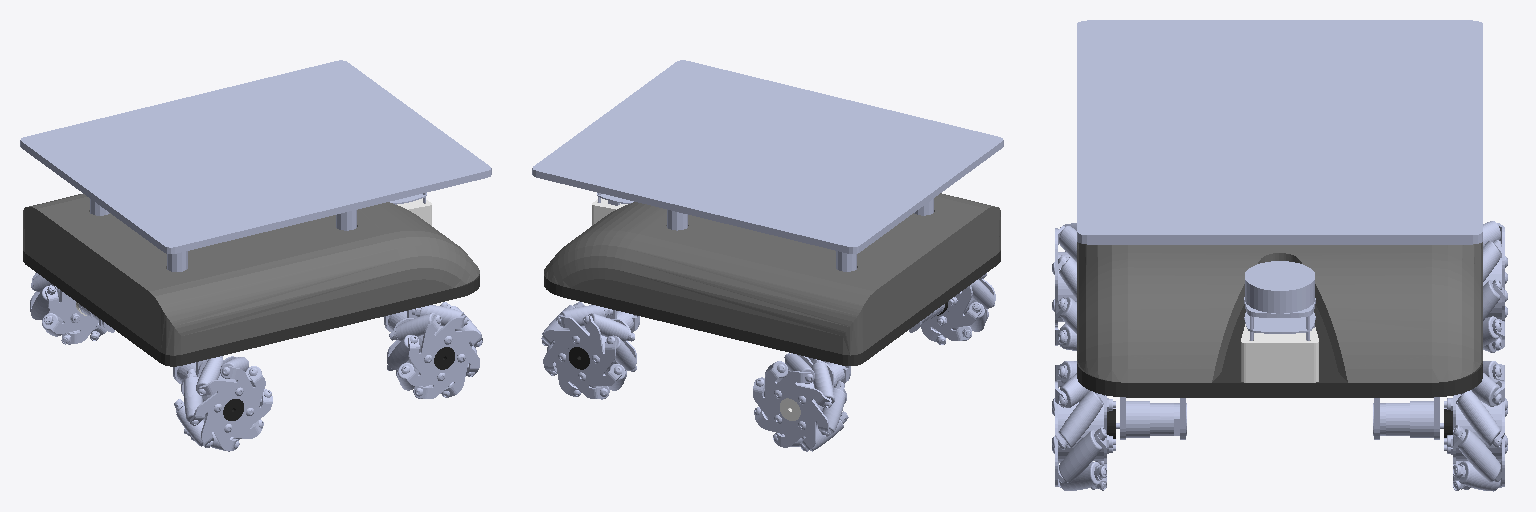
--- Render facts (derived) ---
Views: 3 orthographic renders of the robot side by side, from view 1: azimuth 30°, elevation 25°; view 2: azimuth 150°, elevation 25°; view 3: azimuth 270°, elevation 25°.
Model rUBotcoop_mecanum with 23 links and 22 joints (4 continuous, 18 fixed), rooted at base_link, posed all joints at 0.
Visible links, largest first — view 1: PlataformaSup_Link, Coberta_Link, R1_Link, R2_Link, base_link, L2_Link; view 2: PlataformaSup_Link, Coberta_Link, L2_Link, L1_Link, base_link, R2_Link; view 3: PlataformaSup_Link, Coberta_Link, base_link, L1_Link, R1_Link, Lidar_Link, SuportLidar_Link, L2_Link, R2_Link, MR1_Link, ML1_Link.
Link boxes in pixels (bbox=[...]): PlataformaSup_Link: bbox=[20, 60, 491, 271]; Coberta_Link: bbox=[23, 194, 479, 355]; R1_Link: bbox=[387, 302, 482, 398]; R2_Link: bbox=[174, 356, 272, 451]; base_link: bbox=[23, 251, 479, 366]; L2_Link: bbox=[30, 273, 106, 344]; PlataformaSup_Link: bbox=[532, 60, 1003, 271]; Coberta_Link: bbox=[544, 193, 1000, 355]; L2_Link: bbox=[753, 353, 848, 451]; L1_Link: bbox=[541, 301, 636, 399]; base_link: bbox=[544, 250, 1000, 365]; R2_Link: bbox=[921, 273, 995, 344]; PlataformaSup_Link: bbox=[1077, 20, 1482, 244]; Coberta_Link: bbox=[1077, 242, 1482, 382]; base_link: bbox=[1077, 304, 1482, 397]; L1_Link: bbox=[1444, 361, 1507, 491]; R1_Link: bbox=[1052, 361, 1115, 490]; Lidar_Link: bbox=[1244, 261, 1315, 340]; SuportLidar_Link: bbox=[1241, 324, 1318, 382]; L2_Link: bbox=[1483, 221, 1507, 352]; R2_Link: bbox=[1052, 223, 1076, 350]; MR1_Link: bbox=[1116, 401, 1186, 437]; ML1_Link: bbox=[1373, 401, 1443, 437].
Bounding box of the posed robot: 0.5 × 0.4478 × 0.3135 m (x, y, z).
Meshes: 23 distinct files referenced, 23 mesh visuals loaded (23 binary STL).

robot.urdf — rUBotcoop_mecanum:
<?xml version="1.0" encoding="utf-8"?>
<!-- This URDF was automatically created by SolidWorks to URDF Exporter! Originally created by Stephen Brawner ([email redacted]) 
     Commit Version: 1.6.0-1-g15f4949  Build Version: 1.6.7594.29634
     For more information, please see http://wiki.ros.org/sw_urdf_exporter -->
<robot
  name="rUBotcoop_mecanum">
  <link
    name="base_link">
    <inertial>
      <origin
        xyz="0.027358779894703 -0.0197603692535836 -0.100882644576948"
        rpy="0 0 0" />
      <mass
        value="3.18539354368186" />
      <inertia
        ixx="0.0106842818448098"
        ixy="-5.63785129692462E-18"
        ixz="-7.33657587264312E-18"
        iyy="0.0166285557560687"
        iyz="-1.02898300437925E-07"
        izz="0.0271752644394761" />
    </inertial>
    <visual>
      <origin
        xyz="0 0 0"
        rpy="0 0 0" />
      <geometry>
        <mesh
          filename="package://rUBotcoop_mecanum/meshes/base_link.STL" />
      </geometry>
      <material
        name="">
        <color
          rgba="0.298039215686275 0.298039215686275 0.298039215686275 1" />
      </material>
    </visual>
    <collision>
      <origin
        xyz="0 0 0"
        rpy="0 0 0" />
      <geometry>
        <mesh
          filename="package://rUBotcoop_mecanum/meshes/base_link.STL" />
      </geometry>
    </collision>
  </link>
  <link
    name="Coberta_Link">
    <inertial>
      <origin
        xyz="-0.00415860178485479 -0.0197626395125796 -0.0410152049578553"
        rpy="0 0 0" />
      <mass
        value="4.68887274677187" />
      <inertia
        ixx="0.0779139499510574"
        ixy="-3.02761947211858E-07"
        ixz="0.00111949131598739"
        iyy="0.103102478258834"
        iyz="2.20300061116548E-07"
        izz="0.176660832697072" />
    </inertial>
    <visual>
      <origin
        xyz="0 0 0"
        rpy="0 0 0" />
      <geometry>
        <mesh
          filename="package://rUBotcoop_mecanum/meshes/Coberta_Link.STL" />
      </geometry>
      <material
        name="">
        <color
          rgba="0.498039215686275 0.498039215686275 0.498039215686275 1" />
      </material>
    </visual>
    <collision>
      <origin
        xyz="0 0 0"
        rpy="0 0 0" />
      <geometry>
        <mesh
          filename="package://rUBotcoop_mecanum/meshes/Coberta_Link.STL" />
      </geometry>
    </collision>
  </link>
  <joint
    name="joint_Coberta"
    type="fixed">
    <origin
      xyz="0 0 0"
      rpy="0 0 0" />
    <parent
      link="base_link" />
    <child
      link="Coberta_Link" />
    <axis
      xyz="0 0 0" />
    <limit
      lower="-0.2"
      upper="0"
      effort="0"
      velocity="0" />
  </joint>
  <link
    name="SuportMR1_Link">
    <inertial>
      <origin
        xyz="0.190240986234762 -0.167323573865871 -0.136245077283678"
        rpy="0 0 0" />
      <mass
        value="2.54893478703683E-14" />
      <inertia
        ixx="2.02436254768541E-17"
        ixy="1.34985144449705E-34"
        ixz="7.6274306503081E-33"
        iyy="1.9230003872193E-17"
        iyz="-4.43488387471056E-18"
        izz="6.65997704462131E-18" />
    </inertial>
    <visual>
      <origin
        xyz="0 0 0"
        rpy="0 0 0" />
      <geometry>
        <mesh
          filename="package://rUBotcoop_mecanum/meshes/SuportMR1_Link.STL" />
      </geometry>
      <material
        name="">
        <color
          rgba="0.792156862745098 0.819607843137255 0.933333333333333 1" />
      </material>
    </visual>
    <collision>
      <origin
        xyz="0 0 0"
        rpy="0 0 0" />
      <geometry>
        <mesh
          filename="package://rUBotcoop_mecanum/meshes/SuportMR1_Link.STL" />
      </geometry>
    </collision>
  </link>
  <joint
    name="joint_SuportMR1"
    type="fixed">
    <origin
      xyz="0 0 0"
      rpy="0 0 0" />
    <parent
      link="base_link" />
    <child
      link="SuportMR1_Link" />
    <axis
      xyz="0 0 0" />
  </joint>
  <link
    name="SuportML1_Link">
    <inertial>
      <origin
        xyz="0.190240986234762 0.127802835358702 -0.136245077283677"
        rpy="0 0 0" />
      <mass
        value="2.54893478703682E-14" />
      <inertia
        ixx="2.02436254768541E-17"
        ixy="-1.58935337858327E-33"
        ixz="3.93745200371624E-33"
        iyy="1.9230003872193E-17"
        iyz="4.43488387471057E-18"
        izz="6.65997704462131E-18" />
    </inertial>
    <visual>
      <origin
        xyz="0 0 0"
        rpy="0 0 0" />
      <geometry>
        <mesh
          filename="package://rUBotcoop_mecanum/meshes/SuportML1_Link.STL" />
      </geometry>
      <material
        name="">
        <color
          rgba="0.792156862745098 0.819607843137255 0.933333333333333 1" />
      </material>
    </visual>
    <collision>
      <origin
        xyz="0 0 0"
        rpy="0 0 0" />
      <geometry>
        <mesh
          filename="package://rUBotcoop_mecanum/meshes/SuportML1_Link.STL" />
      </geometry>
    </collision>
  </link>
  <joint
    name="joint_SuportML1"
    type="fixed">
    <origin
      xyz="0 0 0"
      rpy="0 0 0" />
    <parent
      link="base_link" />
    <child
      link="SuportML1_Link" />
    <axis
      xyz="0 0 0" />
  </joint>
  <link
    name="SuportMR2_Link">
    <inertial>
      <origin
        xyz="-0.133359013765239 -0.167323573865871 -0.136245077283678"
        rpy="0 0 0" />
      <mass
        value="2.54893478703683E-14" />
      <inertia
        ixx="2.02436254768542E-17"
        ixy="-5.29793030468644E-33"
        ixz="-1.68811615077954E-32"
        iyy="1.9230003872193E-17"
        iyz="-4.43488387471055E-18"
        izz="6.6599770446213E-18" />
    </inertial>
    <visual>
      <origin
        xyz="0 0 0"
        rpy="0 0 0" />
      <geometry>
        <mesh
          filename="package://rUBotcoop_mecanum/meshes/SuportMR2_Link.STL" />
      </geometry>
      <material
        name="">
        <color
          rgba="0.792156862745098 0.819607843137255 0.933333333333333 1" />
      </material>
    </visual>
    <collision>
      <origin
        xyz="0 0 0"
        rpy="0 0 0" />
      <geometry>
        <mesh
          filename="package://rUBotcoop_mecanum/meshes/SuportMR2_Link.STL" />
      </geometry>
    </collision>
  </link>
  <joint
    name="joint_SuportMR2"
    type="fixed">
    <origin
      xyz="0 0 0"
      rpy="0 0 0" />
    <parent
      link="base_link" />
    <child
      link="SuportMR2_Link" />
    <axis
      xyz="0 0 0" />
  </joint>
  <link
    name="SuportML2_Link">
    <inertial>
      <origin
        xyz="-0.133359013765239 0.127802835358702 -0.136245077283677"
        rpy="0 0 0" />
      <mass
        value="2.54893478703682E-14" />
      <inertia
        ixx="2.02436254768541E-17"
        ixy="-1.48266934258178E-32"
        ixz="3.06188261174757E-32"
        iyy="1.9230003872193E-17"
        iyz="4.43488387471057E-18"
        izz="6.65997704462132E-18" />
    </inertial>
    <visual>
      <origin
        xyz="0 0 0"
        rpy="0 0 0" />
      <geometry>
        <mesh
          filename="package://rUBotcoop_mecanum/meshes/SuportML2_Link.STL" />
      </geometry>
      <material
        name="">
        <color
          rgba="0.792156862745098 0.819607843137255 0.933333333333333 1" />
      </material>
    </visual>
    <collision>
      <origin
        xyz="0 0 0"
        rpy="0 0 0" />
      <geometry>
        <mesh
          filename="package://rUBotcoop_mecanum/meshes/SuportML2_Link.STL" />
      </geometry>
    </collision>
  </link>
  <joint
    name="joint_SuportML2"
    type="fixed">
    <origin
      xyz="0 0 0"
      rpy="0 0 0" />
    <parent
      link="base_link" />
    <child
      link="SuportML2_Link" />
    <axis
      xyz="0 0 0" />
  </joint>
  <link
    name="R1_Link">
    <inertial>
      <origin
        xyz="0.19024 -0.21509 -0.18093"
        rpy="0 0 0" />
      <mass
        value="0.38394" />
      <inertia
        ixx="0.0001602"
        ixy="-7.3492E-12"
        ixz="1.3026E-10"
        iyy="0.00023557"
        iyz="-4.8E-12"
        izz="0.0001602" />
    </inertial>
    <visual>
      <origin
        xyz="0 0 0"
        rpy="0 0 0" />
      <geometry>
        <mesh
          filename="package://rUBotcoop_mecanum/meshes/R1_Link.STL" />
      </geometry>
      <material
        name="">
        <color
          rgba="0.79216 0.81961 0.93333 1" />
      </material>
    </visual>
    <collision>
      <origin
        xyz="0 0 0"
        rpy="0 0 0" />
      <geometry>
        <mesh
          filename="package://rUBotcoop_mecanum/meshes/R1_Link.STL" />
      </geometry>
    </collision>
  </link>
  <joint
    name="joint_R1"
    type="continuous">
    <origin
      xyz="0 0 0"
      rpy="0 0 0" />
    <parent
      link="base_link" />
    <child
      link="R1_Link" />
    <axis
      xyz="0 1 0" />
  </joint>
  <link
    name="L1_Link">
    <inertial>
      <origin
        xyz="0.190240943143321 0.175566774257101 -0.180932674543495"
        rpy="0 0 0" />
      <mass
        value="0.383940518115187" />
      <inertia
        ixx="0.000160200198814806"
        ixy="-3.45253719252988E-11"
        ixz="-1.60009721033914E-10"
        iyy="0.000235568986288032"
        iyz="4.96443788890198E-11"
        izz="0.000160200317616536" />
    </inertial>
    <visual>
      <origin
        xyz="0 0 0"
        rpy="0 0 0" />
      <geometry>
        <mesh
          filename="package://rUBotcoop_mecanum/meshes/L1_Link.STL" />
      </geometry>
      <material
        name="">
        <color
          rgba="0.792156862745098 0.819607843137255 0.933333333333333 1" />
      </material>
    </visual>
    <collision>
      <origin
        xyz="0 0 0"
        rpy="0 0 0" />
      <geometry>
        <mesh
          filename="package://rUBotcoop_mecanum/meshes/L1_Link.STL" />
      </geometry>
    </collision>
  </link>
  <joint
    name="joint_L1"
    type="continuous">
    <origin
      xyz="0 0 0"
      rpy="0 0 0" />
    <parent
      link="base_link" />
    <child
      link="L1_Link" />
    <axis
      xyz="0 1 0" />
  </joint>
  <link
    name="R2_Link">
    <inertial>
      <origin
        xyz="-0.133358966564122 -0.215087513495667 -0.180932621623078"
        rpy="0 0 0" />
      <mass
        value="0.383940489023943" />
      <inertia
        ixx="0.000160200144686595"
        ixy="2.64443282999573E-11"
        ixz="-1.34249931824287E-10"
        iyy="0.000235568971072202"
        iyz="-5.43811018013371E-11"
        izz="0.000160200355480651" />
    </inertial>
    <visual>
      <origin
        xyz="0 0 0"
        rpy="0 0 0" />
      <geometry>
        <mesh
          filename="package://rUBotcoop_mecanum/meshes/R2_Link.STL" />
      </geometry>
      <material
        name="">
        <color
          rgba="0.792156862745098 0.819607843137255 0.933333333333333 1" />
      </material>
    </visual>
    <collision>
      <origin
        xyz="0 0 0"
        rpy="0 0 0" />
      <geometry>
        <mesh
          filename="package://rUBotcoop_mecanum/meshes/R2_Link.STL" />
      </geometry>
    </collision>
  </link>
  <joint
    name="joint_R2"
    type="continuous">
    <origin
      xyz="0 0 0"
      rpy="0 0 0" />
    <parent
      link="base_link" />
    <child
      link="R2_Link" />
    <axis
      xyz="0 1 0" />
  </joint>
  <link
    name="L2_Link">
    <inertial>
      <origin
        xyz="-0.133359013765297 0.175566946695439 -0.180932686457985"
        rpy="0 0 0" />
      <mass
        value="0.383942544876254" />
      <inertia
        ixx="0.000160200609592822"
        ixy="8.77755939197018E-12"
        ixz="7.38003881984372E-17"
        iyy="0.000235567297373846"
        iyz="1.32162987441133E-15"
        izz="0.000160200325120215" />
    </inertial>
    <visual>
      <origin
        xyz="0 0 0"
        rpy="0 0 0" />
      <geometry>
        <mesh
          filename="package://rUBotcoop_mecanum/meshes/L2_Link.STL" />
      </geometry>
      <material
        name="">
        <color
          rgba="0.792156862745098 0.819607843137255 0.933333333333333 1" />
      </material>
    </visual>
    <collision>
      <origin
        xyz="0 0 0"
        rpy="0 0 0" />
      <geometry>
        <mesh
          filename="package://rUBotcoop_mecanum/meshes/L2_Link.STL" />
      </geometry>
    </collision>
  </link>
  <joint
    name="joint_L2"
    type="continuous">
    <origin
      xyz="0 0 0"
      rpy="0 0 0" />
    <parent
      link="base_link" />
    <child
      link="L2_Link" />
    <axis
      xyz="0 1 0" />
  </joint>
  <link
    name="MR1_Link">
    <inertial>
      <origin
        xyz="0.190366281023609 -0.143706161605733 -0.174082729445397"
        rpy="0 0 0" />
      <mass
        value="0.0568898396886143" />
      <inertia
        ixx="2.16430504132729E-05"
        ixy="-1.5609549027946E-07"
        ixz="-7.2412664372835E-10"
        iyy="8.51339721047066E-06"
        iyz="-1.74927784904546E-07"
        izz="2.17113865023018E-05" />
    </inertial>
    <visual>
      <origin
        xyz="0 0 0"
        rpy="0 0 0" />
      <geometry>
        <mesh
          filename="package://rUBotcoop_mecanum/meshes/MR1_Link.STL" />
      </geometry>
      <material
        name="">
        <color
          rgba="0.792156862745098 0.819607843137255 0.933333333333333 1" />
      </material>
    </visual>
    <collision>
      <origin
        xyz="0 0 0"
        rpy="0 0 0" />
      <geometry>
        <mesh
          filename="package://rUBotcoop_mecanum/meshes/MR1_Link.STL" />
      </geometry>
    </collision>
  </link>
  <joint
    name="joint_MR1"
    type="fixed">
    <origin
      xyz="0 0 0"
      rpy="0 0 0" />
    <parent
      link="base_link" />
    <child
      link="MR1_Link" />
    <axis
      xyz="0 0 0" />
  </joint>
  <link
    name="ML1_Link">
    <inertial>
      <origin
        xyz="0.190115691445914 0.104185423098564 -0.174082729445396"
        rpy="0 0 0" />
      <mass
        value="0.0568898396886143" />
      <inertia
        ixx="2.16430504132729E-05"
        ixy="-1.56095490279455E-07"
        ixz="7.24126643729239E-10"
        iyy="8.51339721047066E-06"
        iyz="1.74927784904539E-07"
        izz="2.17113865023018E-05" />
    </inertial>
    <visual>
      <origin
        xyz="0 0 0"
        rpy="0 0 0" />
      <geometry>
        <mesh
          filename="package://rUBotcoop_mecanum/meshes/ML1_Link.STL" />
      </geometry>
      <material
        name="">
        <color
          rgba="0.792156862745098 0.819607843137255 0.933333333333333 1" />
      </material>
    </visual>
    <collision>
      <origin
        xyz="0 0 0"
        rpy="0 0 0" />
      <geometry>
        <mesh
          filename="package://rUBotcoop_mecanum/meshes/ML1_Link.STL" />
      </geometry>
    </collision>
  </link>
  <joint
    name="joint_ML1"
    type="fixed">
    <origin
      xyz="0 0 0"
      rpy="0 0 0" />
    <parent
      link="base_link" />
    <child
      link="ML1_Link" />
    <axis
      xyz="0 0 0" />
  </joint>
  <link
    name="MR2_Link">
    <inertial>
      <origin
        xyz="-0.133233718976391 -0.143706161605733 -0.174082729445397"
        rpy="0 0 0" />
      <mass
        value="0.0568898396886143" />
      <inertia
        ixx="2.16430504132729E-05"
        ixy="-1.56095490279478E-07"
        ixz="-7.24126643728311E-10"
        iyy="8.51339721047067E-06"
        iyz="-1.74927784904551E-07"
        izz="2.17113865023018E-05" />
    </inertial>
    <visual>
      <origin
        xyz="0 0 0"
        rpy="0 0 0" />
      <geometry>
        <mesh
          filename="package://rUBotcoop_mecanum/meshes/MR2_Link.STL" />
      </geometry>
      <material
        name="">
        <color
          rgba="0.792156862745098 0.819607843137255 0.933333333333333 1" />
      </material>
    </visual>
    <collision>
      <origin
        xyz="0 0 0"
        rpy="0 0 0" />
      <geometry>
        <mesh
          filename="package://rUBotcoop_mecanum/meshes/MR2_Link.STL" />
      </geometry>
    </collision>
  </link>
  <joint
    name="joint_MR2"
    type="fixed">
    <origin
      xyz="0 0 0"
      rpy="0 0 0" />
    <parent
      link="base_link" />
    <child
      link="MR2_Link" />
    <axis
      xyz="0 0 0" />
  </joint>
  <link
    name="ML2_Link">
    <inertial>
      <origin
        xyz="-0.133484308554086 0.104185423098564 -0.174082729445396"
        rpy="0 0 0" />
      <mass
        value="0.0568898396886143" />
      <inertia
        ixx="2.16430504132728E-05"
        ixy="-1.56095490279473E-07"
        ixz="7.24126643728921E-10"
        iyy="8.51339721047066E-06"
        iyz="1.74927784904534E-07"
        izz="2.17113865023018E-05" />
    </inertial>
    <visual>
      <origin
        xyz="0 0 0"
        rpy="0 0 0" />
      <geometry>
        <mesh
          filename="package://rUBotcoop_mecanum/meshes/ML2_Link.STL" />
      </geometry>
      <material
        name="">
        <color
          rgba="0.792156862745098 0.819607843137255 0.933333333333333 1" />
      </material>
    </visual>
    <collision>
      <origin
        xyz="0 0 0"
        rpy="0 0 0" />
      <geometry>
        <mesh
          filename="package://rUBotcoop_mecanum/meshes/ML2_Link.STL" />
      </geometry>
    </collision>
  </link>
  <joint
    name="joint_ML2"
    type="fixed">
    <origin
      xyz="0 0 0"
      rpy="0 0 0" />
    <parent
      link="base_link" />
    <child
      link="ML2_Link" />
    <axis
      xyz="0 0 0" />
  </joint>
  <link
    name="SuportCentre1_Link">
    <inertial>
      <origin
        xyz="0.190240986234762 -0.0197603692535851 -0.123144960869108"
        rpy="0 0 0" />
      <mass
        value="0.0669507766214093" />
      <inertia
        ixx="0.000378535151720878"
        ixy="-1.05872032699741E-11"
        ixz="-9.32038950909216E-20"
        iyy="3.15577343168385E-05"
        iyz="-3.99908044191436E-18"
        izz="0.000362568392195281" />
    </inertial>
    <visual>
      <origin
        xyz="0 0 0"
        rpy="0 0 0" />
      <geometry>
        <mesh
          filename="package://rUBotcoop_mecanum/meshes/SuportCentre1_Link.STL" />
      </geometry>
      <material
        name="">
        <color
          rgba="0.792156862745098 0.819607843137255 0.933333333333333 1" />
      </material>
    </visual>
    <collision>
      <origin
        xyz="0 0 0"
        rpy="0 0 0" />
      <geometry>
        <mesh
          filename="package://rUBotcoop_mecanum/meshes/SuportCentre1_Link.STL" />
      </geometry>
    </collision>
  </link>
  <joint
    name="joint_SuportCentre1"
    type="fixed">
    <origin
      xyz="0 0 0"
      rpy="0 0 0" />
    <parent
      link="base_link" />
    <child
      link="SuportCentre1_Link" />
    <axis
      xyz="0 0 0" />
  </joint>
  <link
    name="SuportCentre2_Link">
    <inertial>
      <origin
        xyz="-0.133359013765239 -0.0197603692535846 -0.123144960869108"
        rpy="0 0 0" />
      <mass
        value="0.0669507766214103" />
      <inertia
        ixx="0.000378535151720885"
        ixy="-1.05872033500054E-11"
        ixz="-7.19182837784651E-20"
        iyy="3.15577343168399E-05"
        iyz="-2.97637255379468E-18"
        izz="0.000362568392195286" />
    </inertial>
    <visual>
      <origin
        xyz="0 0 0"
        rpy="0 0 0" />
      <geometry>
        <mesh
          filename="package://rUBotcoop_mecanum/meshes/SuportCentre2_Link.STL" />
      </geometry>
      <material
        name="">
        <color
          rgba="0.792156862745098 0.819607843137255 0.933333333333333 1" />
      </material>
    </visual>
    <collision>
      <origin
        xyz="0 0 0"
        rpy="0 0 0" />
      <geometry>
        <mesh
          filename="package://rUBotcoop_mecanum/meshes/SuportCentre2_Link.STL" />
      </geometry>
    </collision>
  </link>
  <joint
    name="joint_SuportCentre2"
    type="fixed">
    <origin
      xyz="0 0 0"
      rpy="0 0 0" />
    <parent
      link="base_link" />
    <child
      link="SuportCentre2_Link" />
    <axis
      xyz="0 0 0" />
  </joint>
  <link
    name="SuportLidar_Link">
    <inertial>
      <origin
        xyz="0.227558314004439 -0.0197601971689057 -0.0652431702877647"
        rpy="0 0 0" />
      <mass
        value="0.0608283980591504" />
      <inertia
        ixx="4.90100368938017E-05"
        ixy="1.11693718998757E-09"
        ixz="3.84054517720639E-07"
        iyy="9.70408126614275E-05"
        iyz="5.90756790540856E-11"
        izz="0.000122668352099749" />
    </inertial>
    <visual>
      <origin
        xyz="0 0 0"
        rpy="0 0 0" />
      <geometry>
        <mesh
          filename="package://rUBotcoop_mecanum/meshes/SuportLidar_Link.STL" />
      </geometry>
      <material
        name="">
        <color
          rgba="1 1 1 1" />
      </material>
    </visual>
    <collision>
      <origin
        xyz="0 0 0"
        rpy="0 0 0" />
      <geometry>
        <mesh
          filename="package://rUBotcoop_mecanum/meshes/SuportLidar_Link.STL" />
      </geometry>
    </collision>
  </link>
  <joint
    name="joint_SuportLidar"
    type="fixed">
    <origin
      xyz="0 0 0"
      rpy="0 0 0" />
    <parent
      link="base_link" />
    <child
      link="SuportLidar_Link" />
    <axis
      xyz="0 0 0" />
  </joint>
  <link
    name="Lidar_Link">
    <inertial>
      <origin
        xyz="0.241002840357545 -0.019671965350921 -0.0116798073175813"
        rpy="0 0 0" />
      <mass
        value="0.134107312465981" />
      <inertia
        ixx="4.5528108756831E-05"
        ixy="-3.94767799937156E-10"
        ixz="6.7406179850395E-13"
        iyy="5.75373075830395E-05"
        iyz="-5.69541050115237E-11"
        izz="9.32616751986301E-05" />
    </inertial>
    <visual>
      <origin
        xyz="0 0 0"
        rpy="0 0 0" />
      <geometry>
        <mesh
          filename="package://rUBotcoop_mecanum/meshes/Lidar_Link.STL" />
      </geometry>
      <material
        name="">
        <color
          rgba="0.792156862745098 0.819607843137255 0.933333333333333 1" />
      </material>
    </visual>
    <collision>
      <origin
        xyz="0 0 0"
        rpy="0 0 0" />
      <geometry>
        <mesh
          filename="package://rUBotcoop_mecanum/meshes/Lidar_Link.STL" />
      </geometry>
    </collision>
  </link>
  <joint
    name="joint_Lidar"
    type="fixed">
    <origin
      xyz="0 0 0"
      rpy="0 0 0" />
    <parent
      link="base_link" />
    <child
      link="Lidar_Link" />
    <axis
      xyz="0 0 0" />
  </joint>
  <link
    name="PlataformaSup_Link">
    <inertial>
      <origin
        xyz="0.0206420247116084 -0.0197603692535851 0.0496890169860071"
        rpy="0 0 0" />
      <mass
        value="2.36859288871575" />
      <inertia
        ixx="0.0332000223558737"
        ixy="1.60844506157554E-17"
        ixz="-0.00124729826883521"
        iyy="0.051360416968501"
        iyz="-2.78180962234125E-16"
        izz="0.0791503234773247" />
    </inertial>
    <visual>
      <origin
        xyz="0 0 0"
        rpy="0 0 0" />
      <geometry>
        <mesh
          filename="package://rUBotcoop_mecanum/meshes/PlataformaSup_Link.STL" />
      </geometry>
      <material
        name="">
        <color
          rgba="0.792156862745098 0.819607843137255 0.933333333333333 1" />
      </material>
    </visual>
    <collision>
      <origin
        xyz="0 0 0"
        rpy="0 0 0" />
      <geometry>
        <mesh
          filename="package://rUBotcoop_mecanum/meshes/PlataformaSup_Link.STL" />
      </geometry>
    </collision>
  </link>
  <joint
    name="joint_PlataformaSup"
    type="fixed">
    <origin
      xyz="0 0 0"
      rpy="0 0 0" />
    <parent
      link="base_link" />
    <child
      link="PlataformaSup_Link" />
    <axis
      xyz="0 0 0" />
  </joint>
  <link
    name="AttachR1_Link">
    <inertial>
      <origin
        xyz="0.190240986234762 -0.211010369253584 -0.180937426773138"
        rpy="0 0 0" />
      <mass
        value="0.0487809346941653" />
      <inertia
        ixx="1.799861613752E-05"
        ixy="1.05879118406788E-24"
        ixz="-3.68876998292282E-25"
        iyy="6.72811270213157E-06"
        iyz="-4.11901139709596E-20"
        izz="1.79980573811107E-05" />
    </inertial>
    <visual>
      <origin
        xyz="0 0 0"
        rpy="0 0 0" />
      <geometry>
        <mesh
          filename="package://rUBotcoop_mecanum/meshes/AttachR1_Link.STL" />
      </geometry>
      <material
        name="">
        <color
          rgba="0.2 0.2 0.2 1" />
      </material>
    </visual>
    <collision>
      <origin
        xyz="0 0 0"
        rpy="0 0 0" />
      <geometry>
        <mesh
          filename="package://rUBotcoop_mecanum/meshes/AttachR1_Link.STL" />
      </geometry>
    </collision>
  </link>
  <joint
    name="joint_AttachR1"
    type="fixed">
    <origin
      xyz="0 0 0"
      rpy="0 0 0" />
    <parent
      link="base_link" />
    <child
      link="AttachR1_Link" />
    <axis
      xyz="0 0 0" />
  </joint>
  <link
    name="AttachL1_Link">
    <inertial>
      <origin
        xyz="0.190240986234761 0.171489630746416 -0.180937426773137"
        rpy="0 0 0" />
      <mass
        value="0.0487809346941654" />
      <inertia
        ixx="1.799861613752E-05"
        ixy="-4.37173637705101E-22"
        ixz="-1.72809644020263E-24"
        iyy="6.72811270213157E-06"
        iyz="-4.6488719961839E-22"
        izz="1.79980573811108E-05" />
    </inertial>
    <visual>
      <origin
        xyz="0 0 0"
        rpy="0 0 0" />
      <geometry>
        <mesh
          filename="package://rUBotcoop_mecanum/meshes/AttachL1_Link.STL" />
      </geometry>
      <material
        name="">
        <color
          rgba="0.2 0.2 0.2 1" />
      </material>
    </visual>
    <collision>
      <origin
        xyz="0 0 0"
        rpy="0 0 0" />
      <geometry>
        <mesh
          filename="package://rUBotcoop_mecanum/meshes/AttachL1_Link.STL" />
      </geometry>
    </collision>
  </link>
  <joint
    name="joint_AttachL1"
    type="fixed">
    <origin
      xyz="0 0 0"
      rpy="0 0 0" />
    <parent
      link="base_link" />
    <child
      link="AttachL1_Link" />
    <axis
      xyz="0 0 0" />
  </joint>
  <link
    name="AttachR2_Link">
    <inertial>
      <origin
        xyz="-0.133359013765239 -0.211010369253584 -0.180937426773138"
        rpy="0 0 0" />
      <mass
        value="0.0487809346941653" />
      <inertia
        ixx="1.799861613752E-05"
        ixy="1.05879118406792E-24"
        ixz="-2.62185345173502E-25"
        iyy="6.72811270213157E-06"
        iyz="-1.5500463362193E-20"
        izz="1.79980573811107E-05" />
    </inertial>
    <visual>
      <origin
        xyz="0 0 0"
        rpy="0 0 0" />
      <geometry>
        <mesh
          filename="package://rUBotcoop_mecanum/meshes/AttachR2_Link.STL" />
      </geometry>
      <material
        name="">
        <color
          rgba="0.2 0.2 0.2 1" />
      </material>
    </visual>
    <collision>
      <origin
        xyz="0 0 0"
        rpy="0 0 0" />
      <geometry>
        <mesh
          filename="package://rUBotcoop_mecanum/meshes/AttachR2_Link.STL" />
      </geometry>
    </collision>
  </link>
  <joint
    name="joint_AttachR2"
    type="fixed">
    <origin
      xyz="0 0 0"
      rpy="0 0 0" />
    <parent
      link="base_link" />
    <child
      link="AttachR2_Link" />
    <axis
      xyz="0 0 0" />
  </joint>
  <link
    name="AttachL2_Link">
    <inertial>
      <origin
        xyz="0 0 0"
        rpy="0 0 0" />
      <mass
        value="0" />
      <inertia
        ixx="0"
        ixy="0"
        ixz="0"
        iyy="0"
        iyz="0"
        izz="0" />
    </inertial>
    <visual>
      <origin
        xyz="0 0 0"
        rpy="0 0 0" />
      <geometry>
        <mesh
          filename="package://rUBotcoop_mecanum/meshes/AttachL2_Link.STL" />
      </geometry>
      <material
        name="">
        <color
          rgba="1 1 1 1" />
      </material>
    </visual>
    <collision>
      <origin
        xyz="0 0 0"
        rpy="0 0 0" />
      <geometry>
        <mesh
          filename="package://rUBotcoop_mecanum/meshes/AttachL2_Link.STL" />
      </geometry>
    </collision>
  </link>
  <joint
    name="joint_AttachL2"
    type="fixed">
    <origin
      xyz="0 0 0"
      rpy="0 0 0" />
    <parent
      link="base_link" />
    <child
      link="AttachL2_Link" />
    <axis
      xyz="0 0 0" />
  </joint>
</robot>
